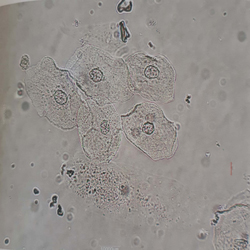Epithelial: (19, 40, 185, 166)
